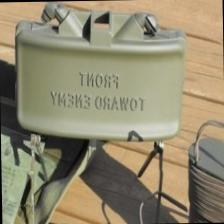MOH-50: (5, 0, 191, 160)
